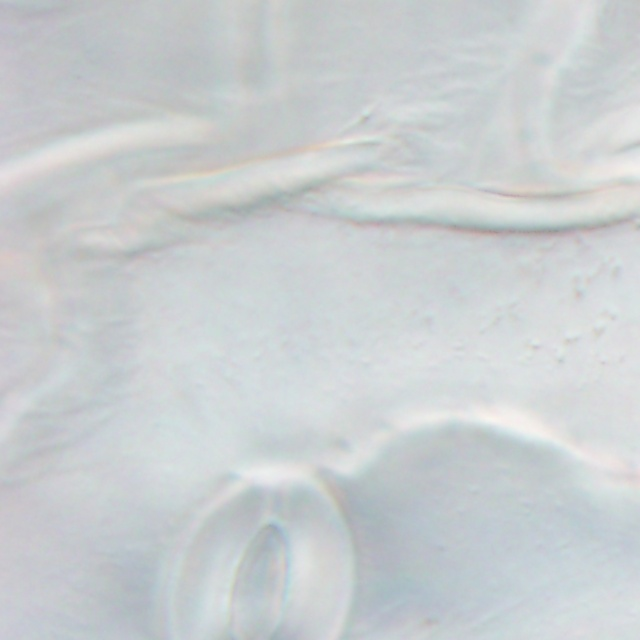center: (0, 315, 60, 324)
stomata-huw1: (169, 469, 356, 639), (1, 247, 53, 392)
